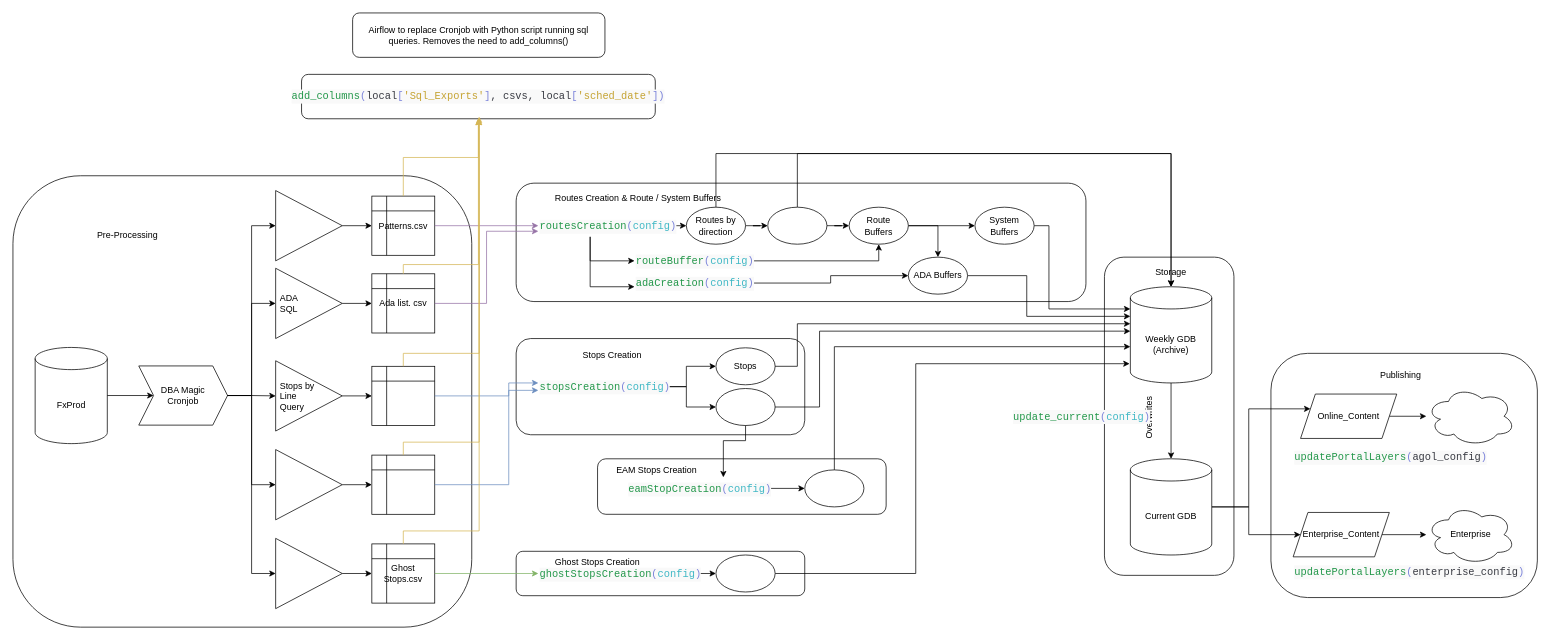
This 1558x640 diagram has some shape labels left out. The shapes that lost their labels are listed below. From the top down, each one's centre as x and y in pixels, then its label:
point (308, 225): Patterns SQL
point (797, 225): Routes
point (403, 396): stops by line.csv
point (745, 407): Stops By Line
point (1470, 416): AGOL
point (308, 484): Stops Query
point (403, 484): stops.csv
point (834, 488): EAM Stops
point (308, 573): Ghost Stops Query
point (745, 573): Ghoststops
